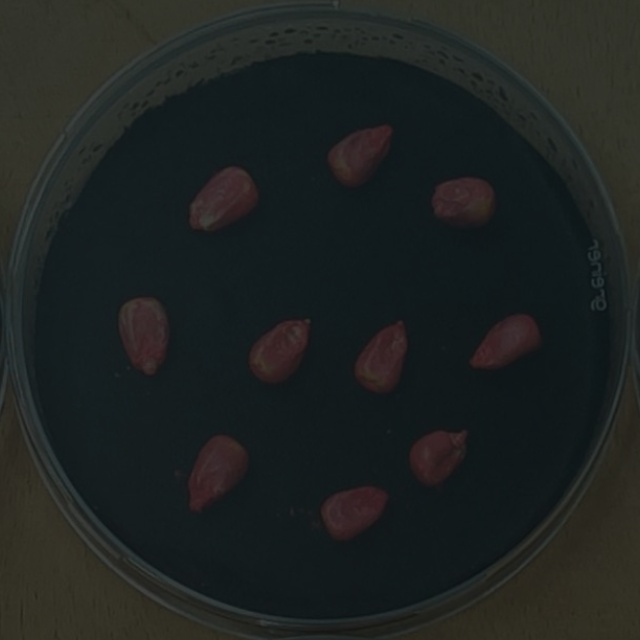Zea mays: (178, 157, 267, 240), (179, 427, 256, 519), (111, 288, 178, 385), (318, 117, 400, 196), (242, 310, 320, 393), (462, 306, 549, 378), (348, 311, 416, 403), (314, 477, 397, 550), (422, 169, 504, 237), (401, 421, 475, 495)
